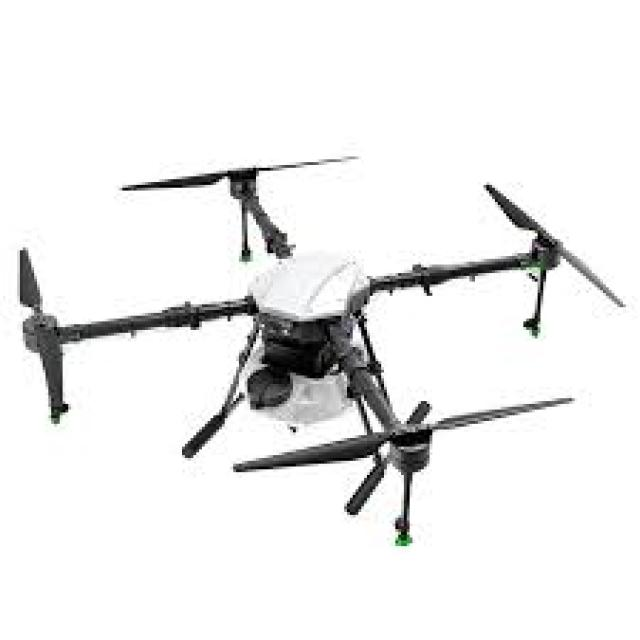drone: (0, 117, 613, 529)
